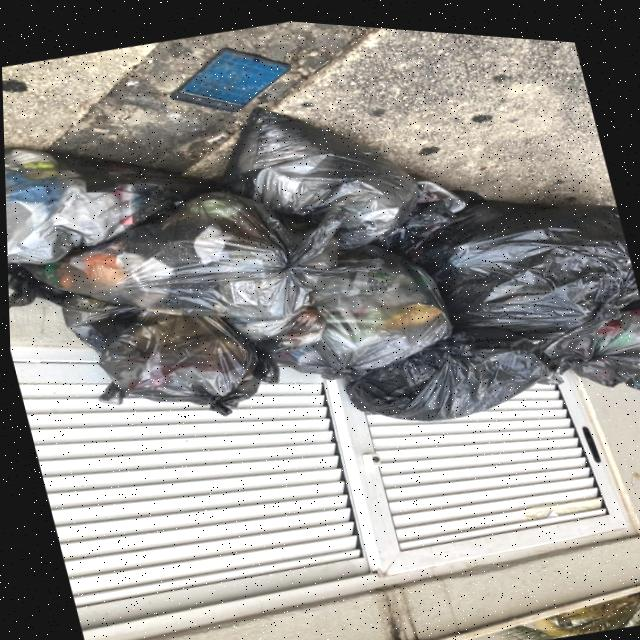Mixed Waste -Black Bag-: (13, 140, 393, 373), (407, 147, 640, 361), (204, 70, 425, 271), (3, 96, 228, 286), (239, 221, 460, 398), (330, 296, 564, 441), (80, 288, 265, 443), (514, 287, 640, 421)
